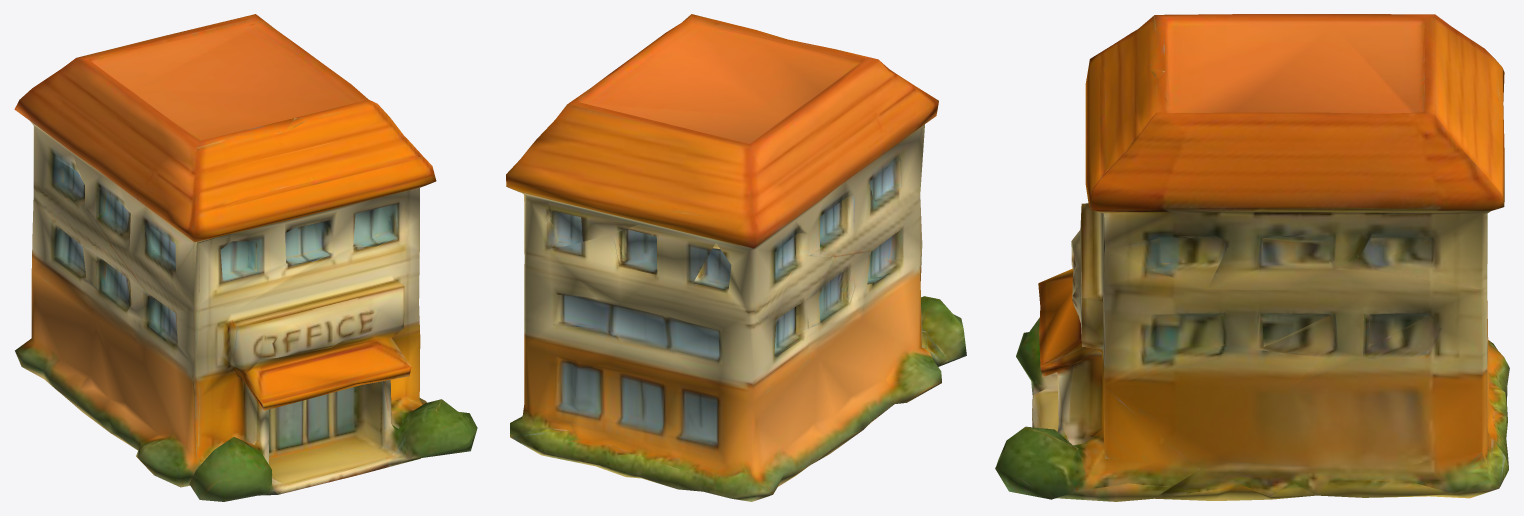
Rendered from building office.fbx.
3 renders of one model, left to right at view 1: azimuth 30°, elevation 25°; view 2: azimuth 150°, elevation 25°; view 3: azimuth 270°, elevation 25°, orthographic. The views are drawn at different scales.
Parts seen in each view (by area): view 1: building office small; view 2: building office small; view 3: building office small.
Part boxes in pixels (bbox=[...]): building office small: bbox=[14, 14, 477, 501]; building office small: bbox=[506, 14, 966, 501]; building office small: bbox=[995, 14, 1509, 501].
Bounding box in the file's own units: 275 × 299 × 377.
